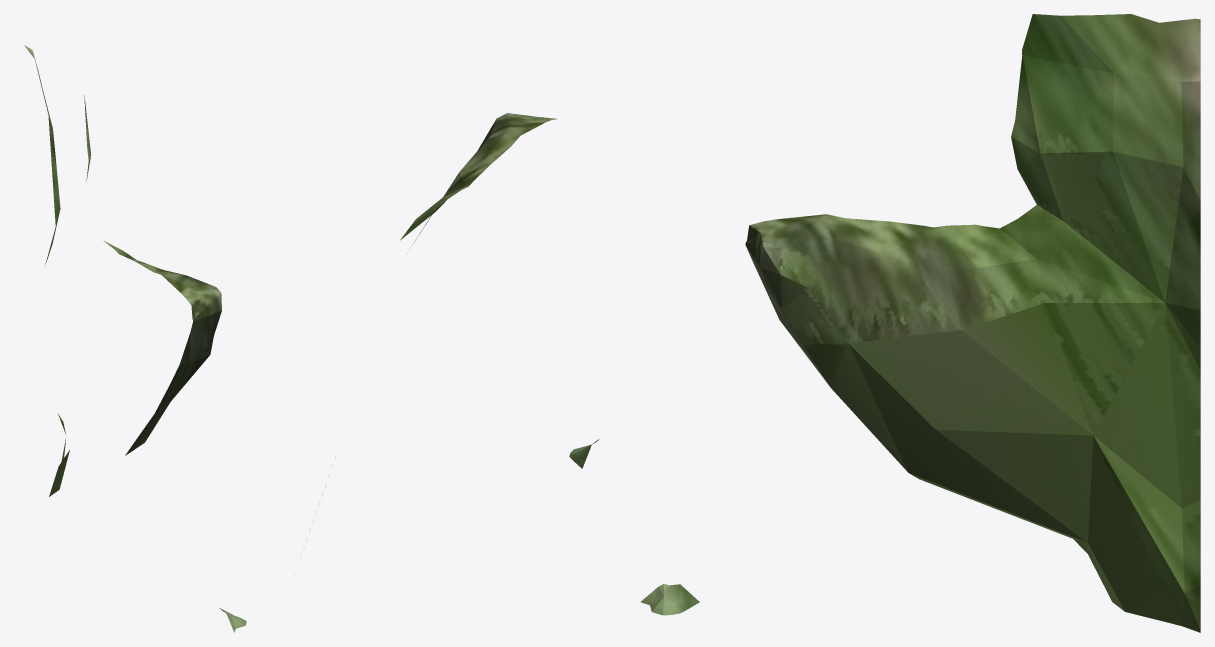
The picture shows the model from 3 angles, left to right: view 1: azimuth 30°, elevation 25°; view 2: azimuth 150°, elevation 25°; view 3: azimuth 270°, elevation 25°; orthographic projection. The views are drawn at different scales.
Size of the model in its own units: 0.336 by 2.95 by 2.55.
Materials: 2 (2 with a texture image).
